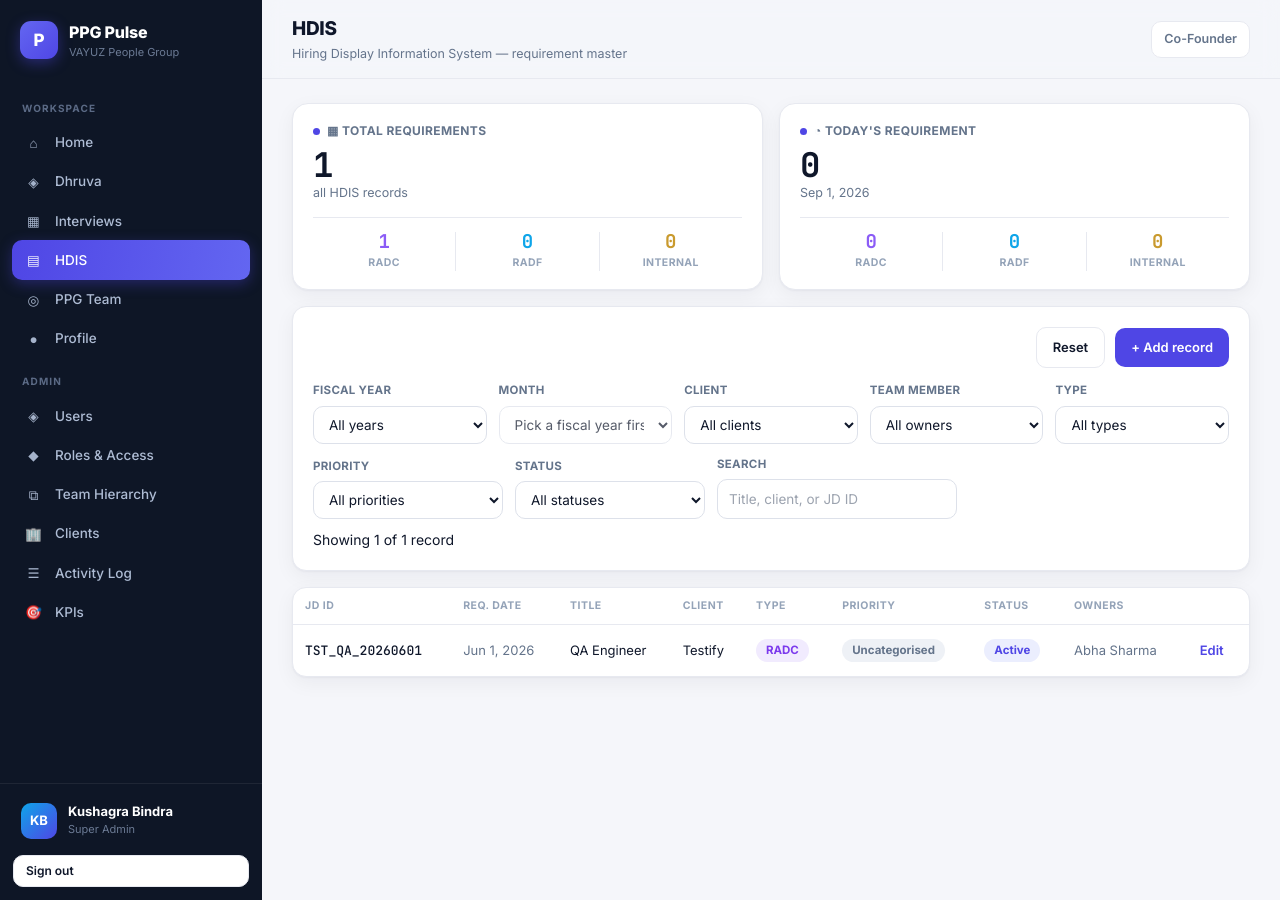
Test: HDIS form PPG multiselect (T10.2) › picks a PPG team member from the dropdown and can remove the chip
Expected: the text "QA Engineer" is shown, x1=558 y1=624 x2=671 y2=676
Click the button "+ Add record" at (1172, 348), box x1=1115 y1=328 x2=1229 y2=367
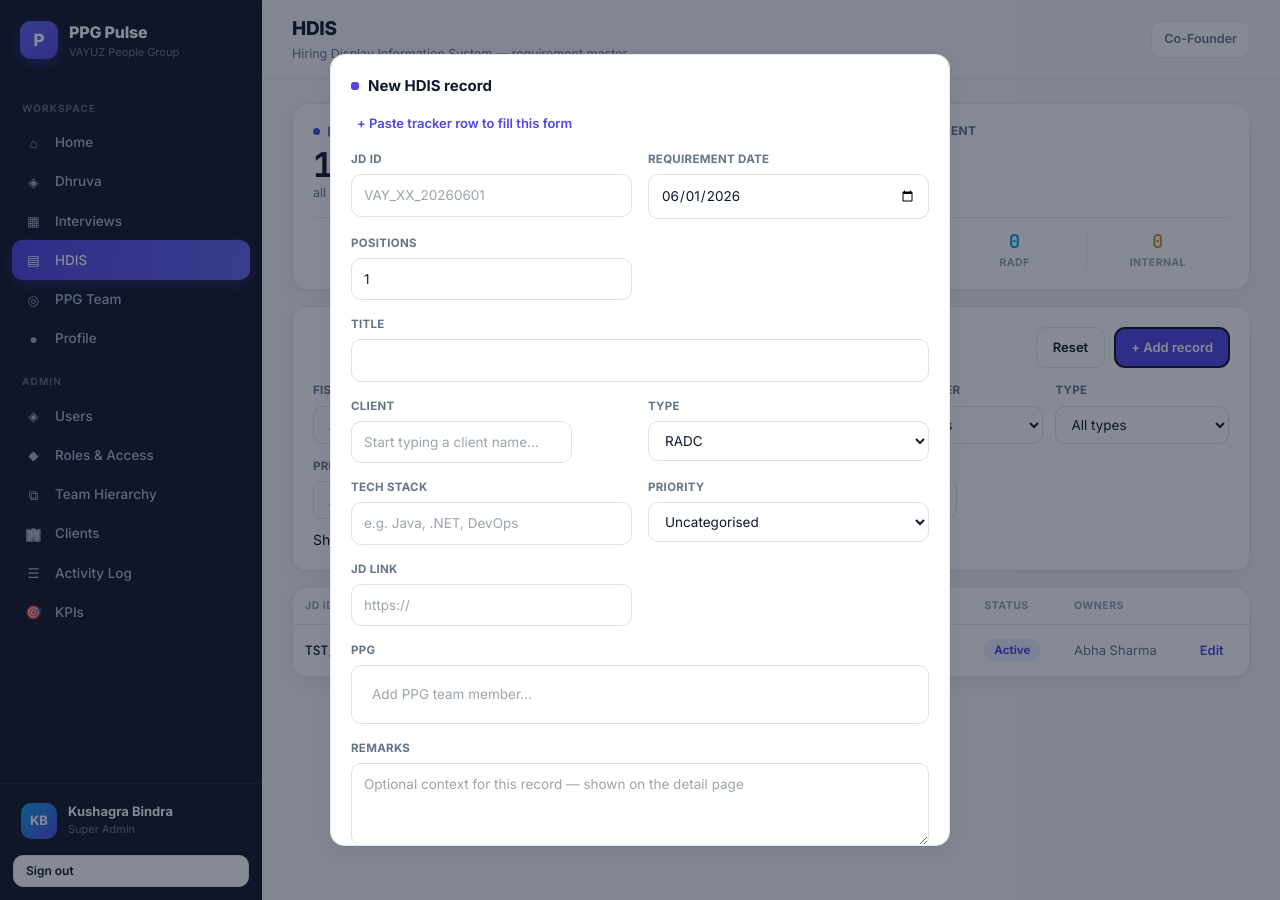
// Only PPG team names sourced from /api/consultants are selectable — no free text.
Click the field with placeholder "Add PPG team member…" at (640, 694), box x1=360 y1=674 x2=920 y2=715
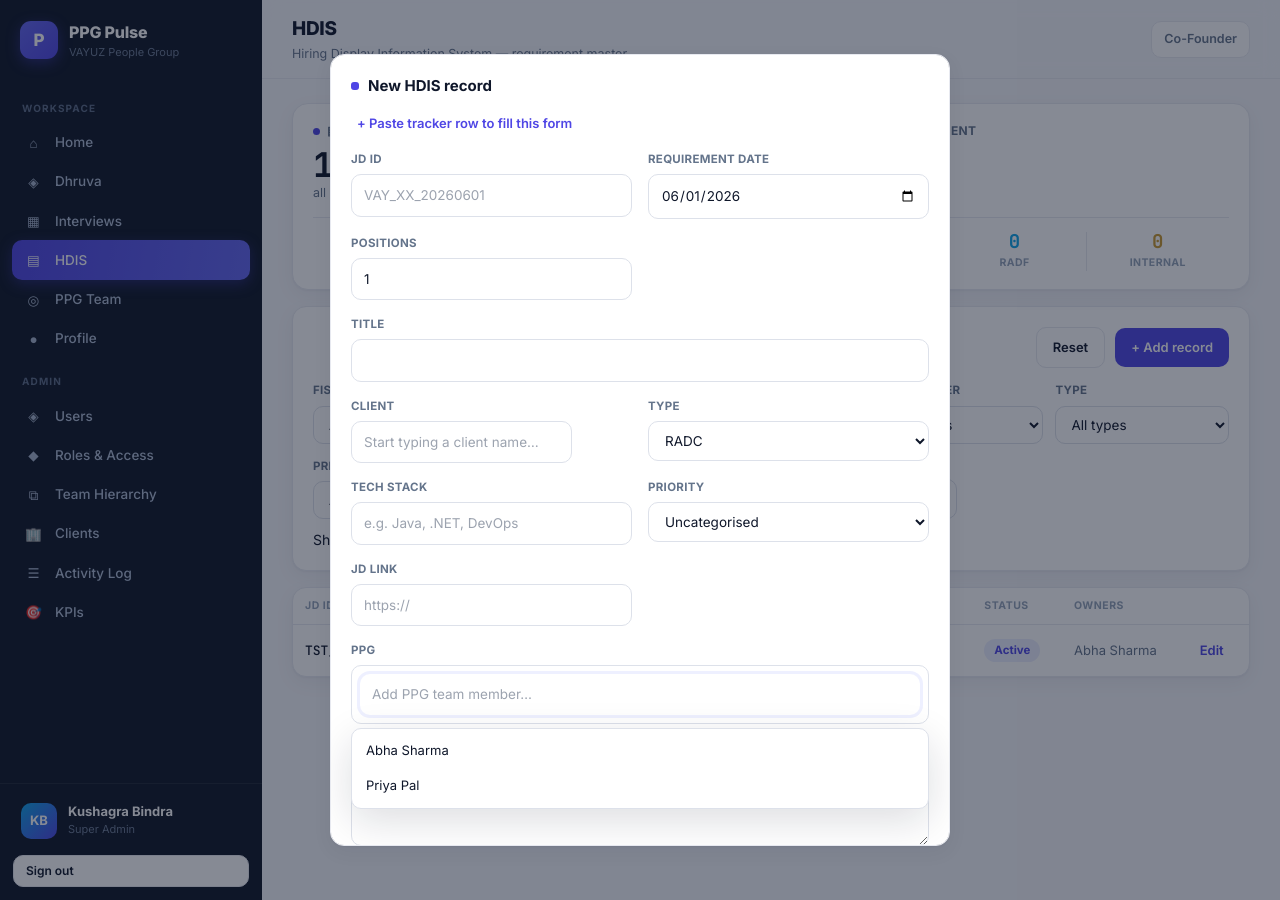
Click the text "Priya Pal" at (393, 785), box x1=366 y1=777 x2=419 y2=793
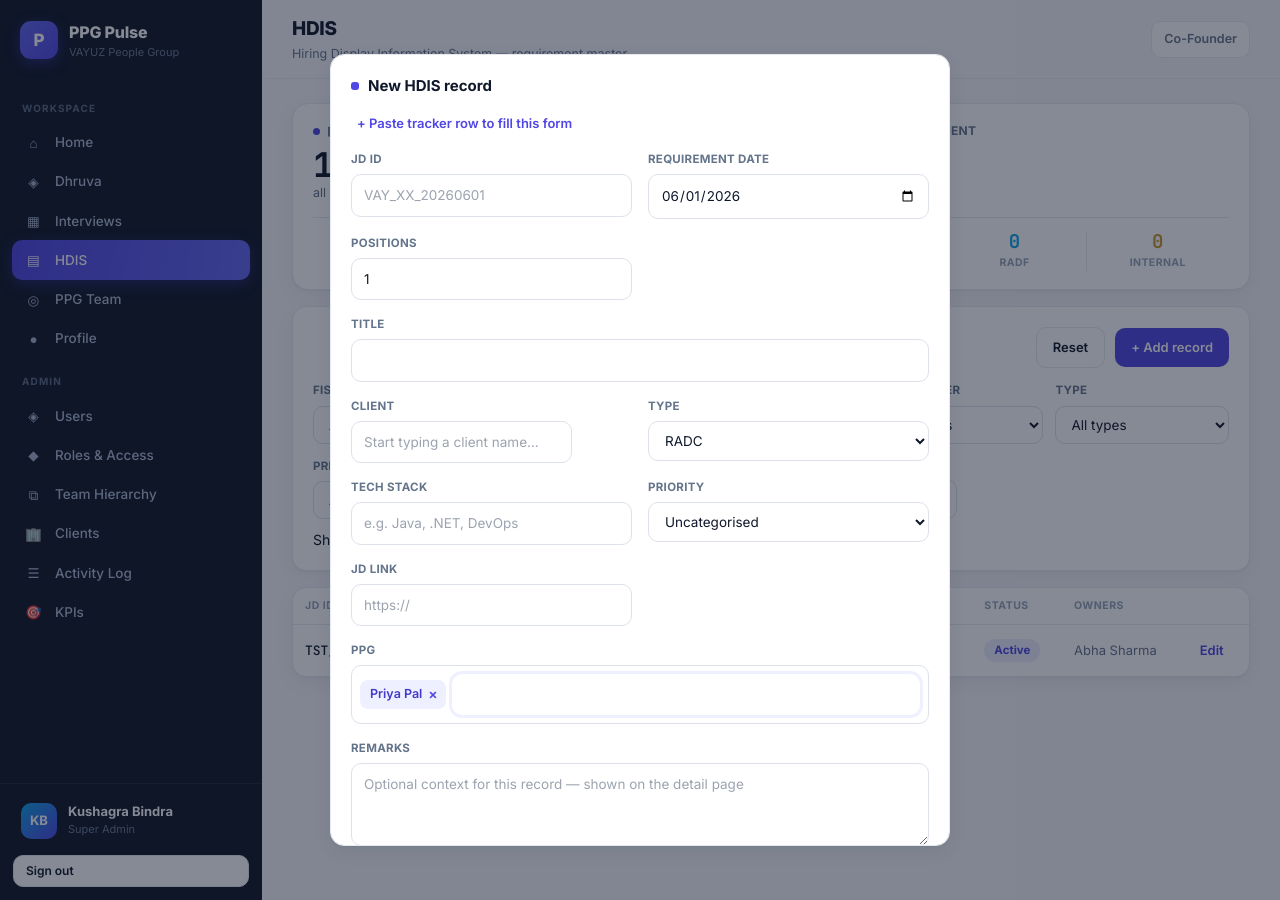
Expected: the text "Priya Pal" is shown, x1=370 y1=686 x2=422 y2=701
// remove the chip
Click the button named "Remove Priya Pal" at (433, 694), box x1=428 y1=687 x2=438 y2=701
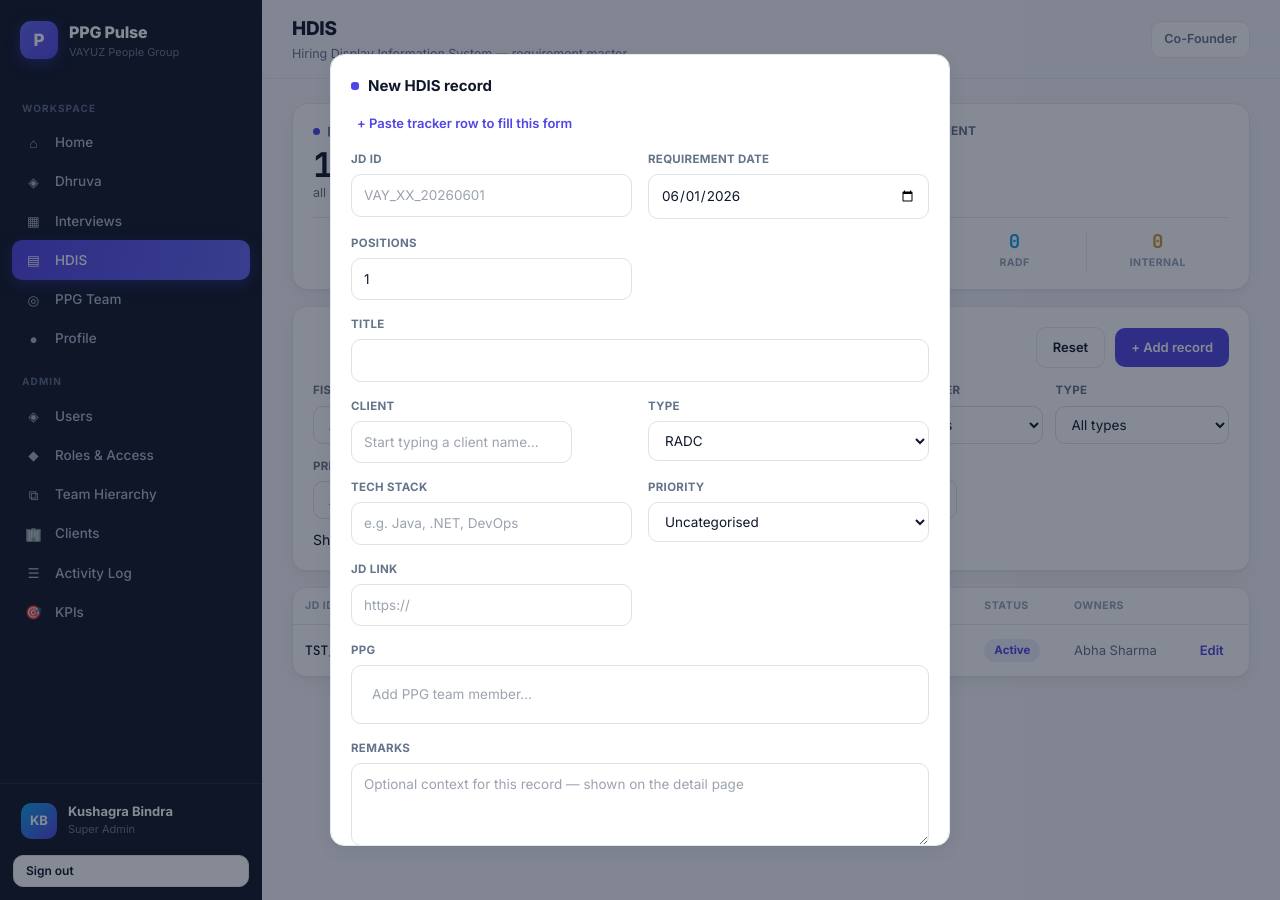
Expected: the text "Priya Pal" is gone
